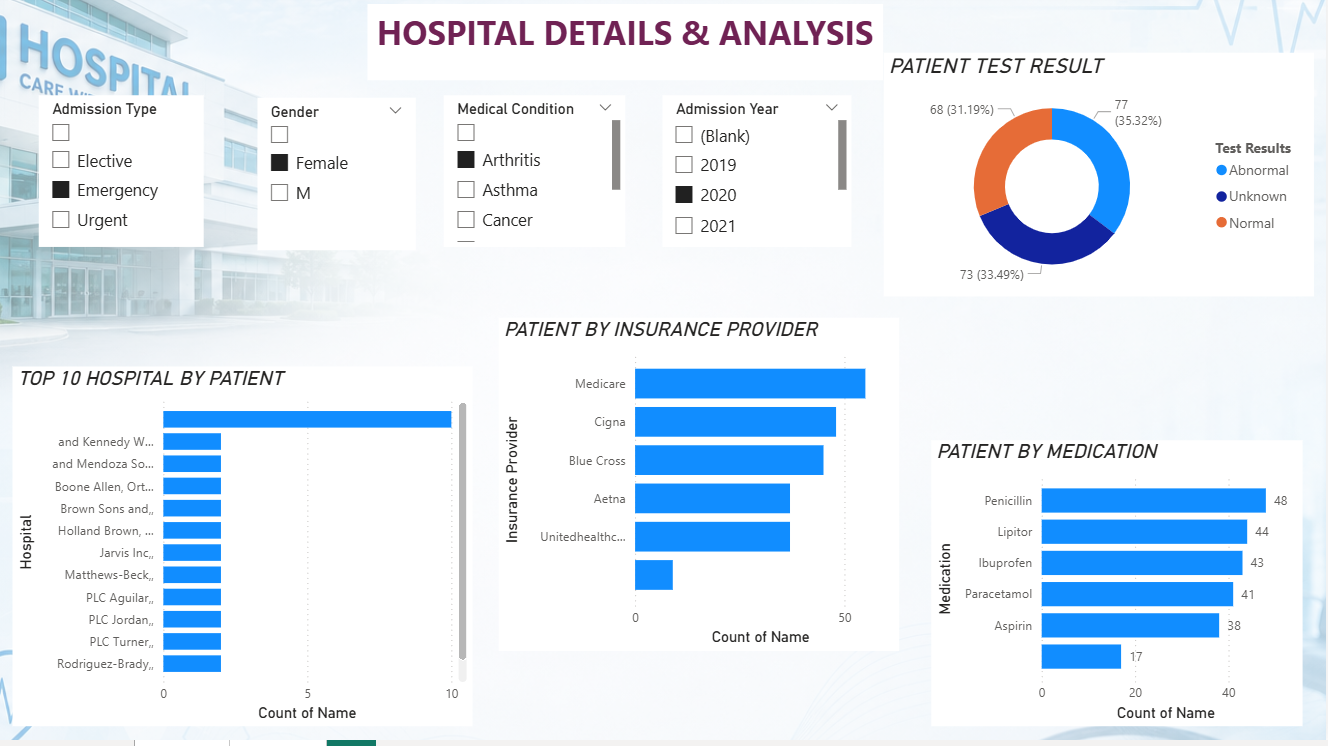

This screenshot's page, from the dashboard's own definition file:
{"tool":"powerbi","page":{"name":"Page 2","canvas":[1280,720],"ordinal":1},"visuals":[{"type":"clusteredBarChart","title":"PATIENT BY INSURANCE PROVIDER","fields":{"Category":["hospital_data_cleaned.Insurance Provider"],"Y":["CountNonNull(hospital_data_cleaned.Name)"]},"box":[481.2,312.5,386.2,321.2],"z":0},{"type":"textbox","box":[355,10,497.5,73.8],"z":1000},{"type":"clusteredBarChart","title":"PATIENT BY  MEDICATION","fields":{"Category":["hospital_data_cleaned.Medication"],"Y":["CountNonNull(hospital_data_cleaned.Name)"]},"box":[898.8,431.2,358.8,276.2],"z":2000},{"type":"donutChart","title":"PATIENT TEST RESULT","fields":{"Category":["hospital_data_cleaned.Test Results"],"Y":["CountNonNull(hospital_data_cleaned.Name)"]},"box":[852.5,56.2,415,235],"z":3000},{"type":"clusteredBarChart","title":"TOP 10 HOSPITAL BY PATIENT","fields":{"Category":["hospital_data_cleaned.Hospital"],"Y":["CountNonNull(hospital_data_cleaned.Name)"]},"box":[12.5,360,443.8,347.5],"z":4000},{"type":"slicer","fields":{"Values":["hospital_data_cleaned.Gender"]},"box":[248.8,100,152.5,147.5],"z":4001},{"type":"slicer","fields":{"Values":["hospital_data_cleaned.Admission Type"]},"box":[37.9,97.8,159,146.7],"z":4002},{"type":"slicer","fields":{"Values":["hospital_data_cleaned.Medical Condition"]},"box":[428.8,97.5,175,146.2],"z":4003},{"type":"slicer","title":"PATIENT TEST RESULT","fields":{"Values":["hospital_data_cleaned.Admission Year"]},"box":[640,97.5,182.5,146.2],"z":4004}]}

Visuals, with their boxes in screenshot pixels (x1, y1, x2, y2), scaled from the page's 1280x720 canvas onto the 1328x746 screenshot:
"PATIENT BY INSURANCE PROVIDER" clusteredBarChart: bbox=[499, 324, 900, 657]
textbox: bbox=[368, 10, 884, 87]
"PATIENT BY  MEDICATION" clusteredBarChart: bbox=[933, 447, 1305, 733]
"PATIENT TEST RESULT" donutChart: bbox=[884, 58, 1315, 302]
"TOP 10 HOSPITAL BY PATIENT" clusteredBarChart: bbox=[13, 373, 473, 733]
slicer - hospital_data_cleaned.Gender: bbox=[258, 104, 416, 256]
slicer - hospital_data_cleaned.Admission Type: bbox=[39, 101, 204, 253]
slicer - hospital_data_cleaned.Medical Condition: bbox=[445, 101, 626, 253]
"PATIENT TEST RESULT" slicer: bbox=[664, 101, 853, 253]
